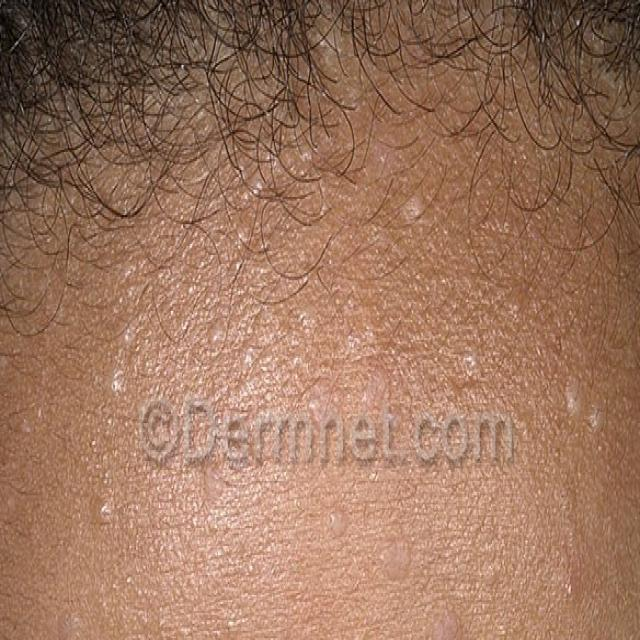Warts: (203, 147, 359, 368), (43, 569, 202, 640), (334, 486, 416, 569), (437, 580, 536, 640), (86, 305, 138, 411), (555, 364, 607, 459), (74, 475, 126, 536), (394, 179, 433, 249)
